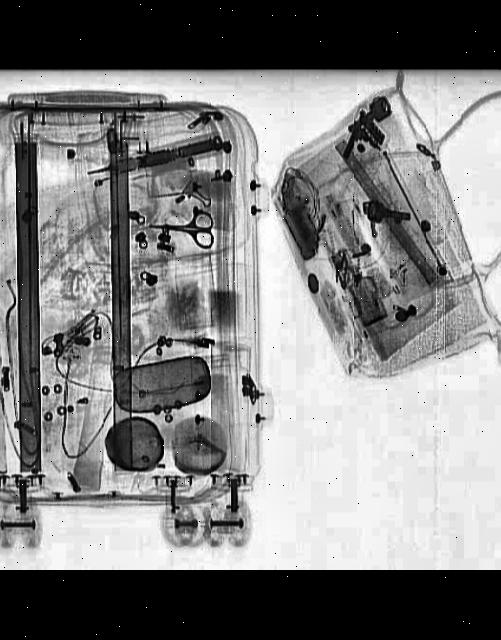Scissors: (151, 206, 214, 246)
